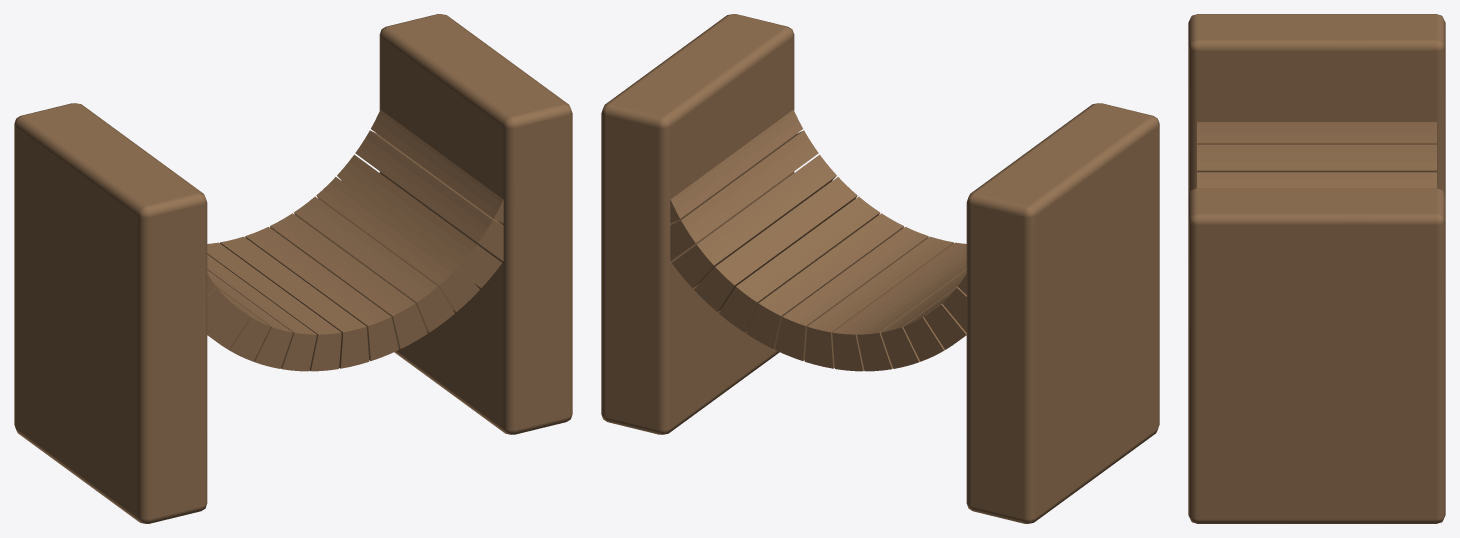
The model's file is fantasy-bathhouse-and-thermal-sanctuary-fantasy-bathho-fcf371c2__29467.glb.
The picture shows the model from 3 angles, left to right: view 1: azimuth 30°, elevation 25°; view 2: azimuth 150°, elevation 25°; view 3: azimuth 270°, elevation 25°; orthographic projection. The views are drawn at different scales.
Parts seen in each view (by area): view 1: fantasy-bathhouse-and-thermal-sanctuary-headrest; view 2: fantasy-bathhouse-and-thermal-sanctuary-headrest; view 3: fantasy-bathhouse-and-thermal-sanctuary-headrest.
Boxes of the visible parts, left/top/right/bottom form: fantasy-bathhouse-and-thermal-sanctuary-headrest: left=14, top=14, right=572, bottom=523; fantasy-bathhouse-and-thermal-sanctuary-headrest: left=601, top=14, right=1159, bottom=523; fantasy-bathhouse-and-thermal-sanctuary-headrest: left=1188, top=14, right=1445, bottom=523.
Bounding box in the file's own units: 0.57 × 0.4 × 0.3.
